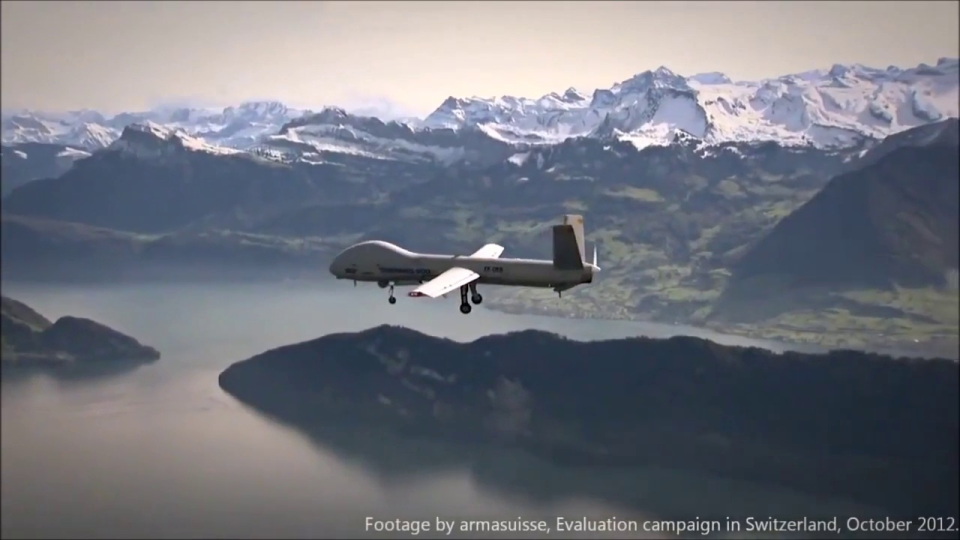military drone: (329, 213, 601, 314)
